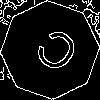C: (25, 25, 83, 83)
